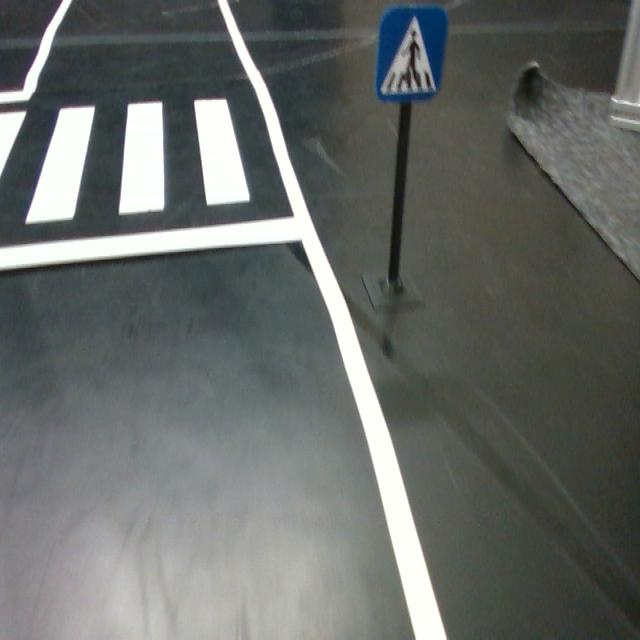crosswalk-sign: (376, 6, 448, 102)
